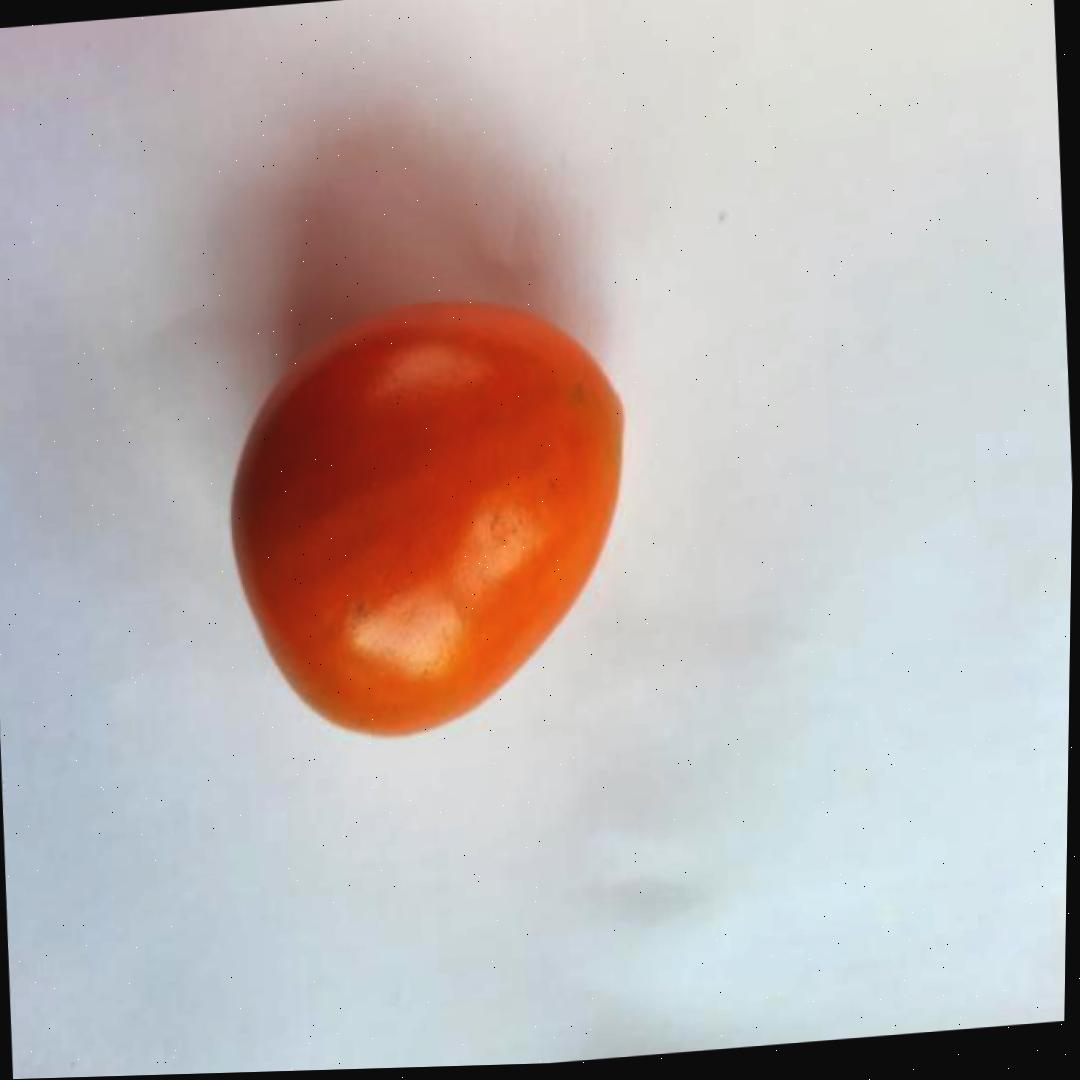setengah_matang: (214, 279, 646, 753)
